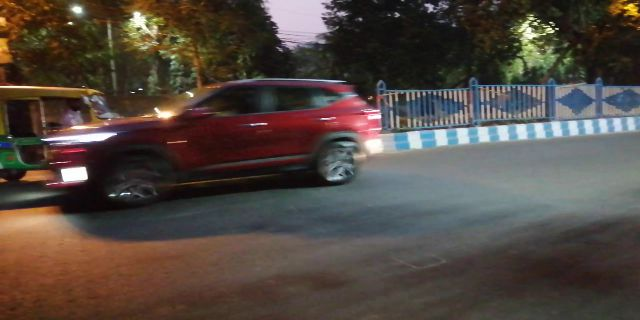Car: (47, 75, 383, 204)
